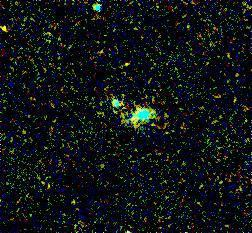star: (0, 16, 20, 46)
